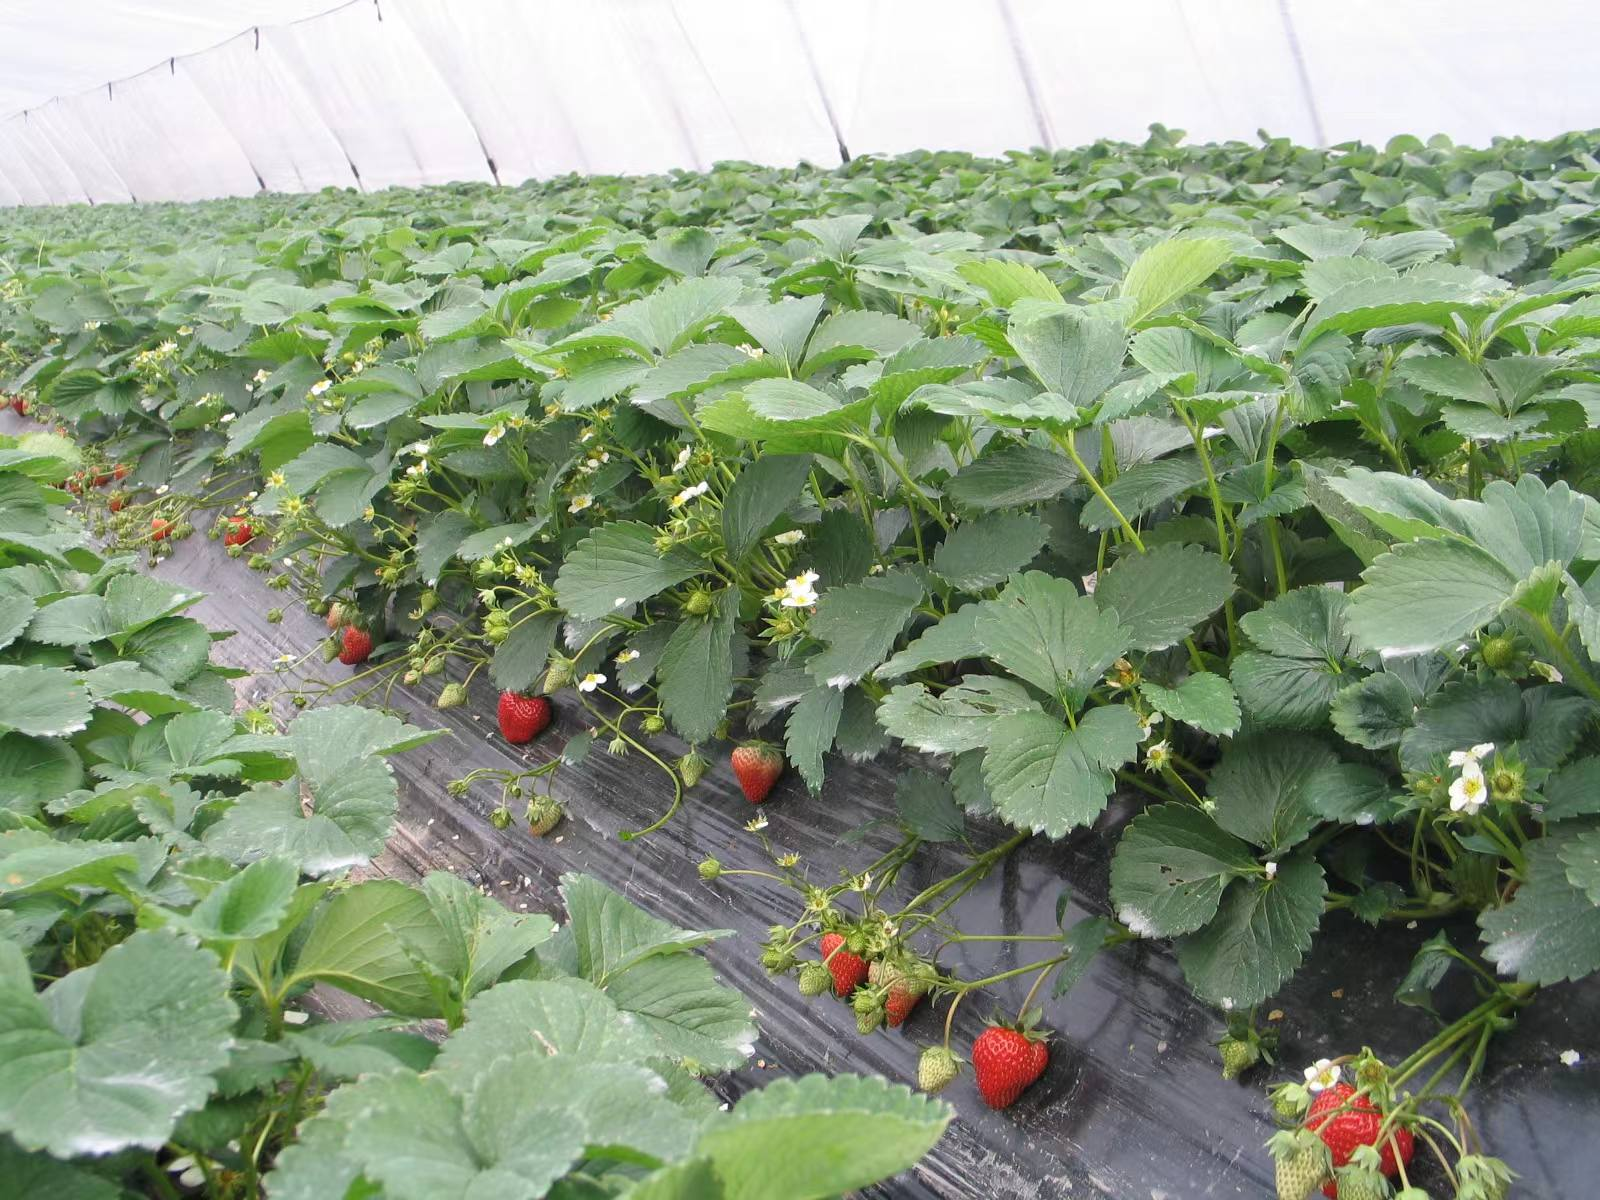StrawberryCone: (973, 1024, 1053, 1111), (813, 914, 871, 1002), (488, 686, 557, 746), (326, 613, 391, 676)
StrawberryIrremovable: (862, 948, 956, 1029), (1264, 1128, 1340, 1194), (511, 784, 585, 845), (727, 730, 785, 805), (1342, 1145, 1390, 1194), (668, 736, 711, 790), (910, 1042, 960, 1088), (433, 678, 483, 712)
StrawberryOther: (1288, 1064, 1421, 1192), (215, 505, 261, 552)
StrawberryRemovable: (1291, 1064, 1419, 1196), (971, 1022, 1054, 1112), (818, 916, 871, 1002), (491, 686, 556, 746), (333, 618, 386, 672), (219, 512, 260, 550)
